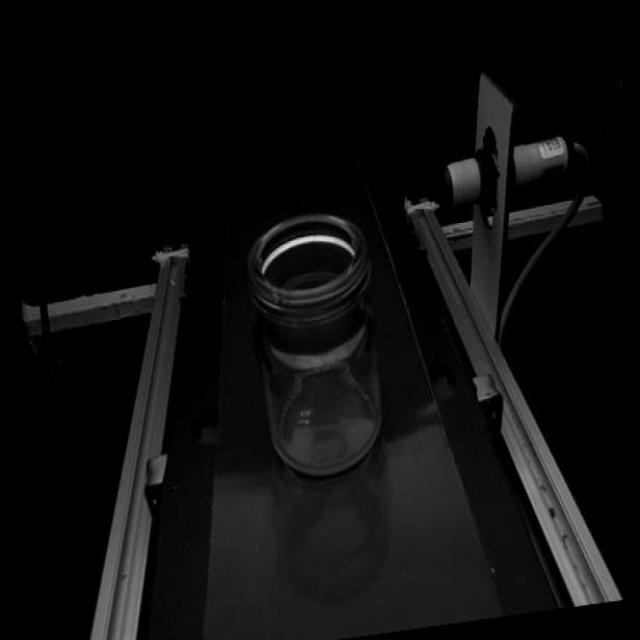defect: (269, 290, 283, 306)
glass: (241, 202, 391, 488)
